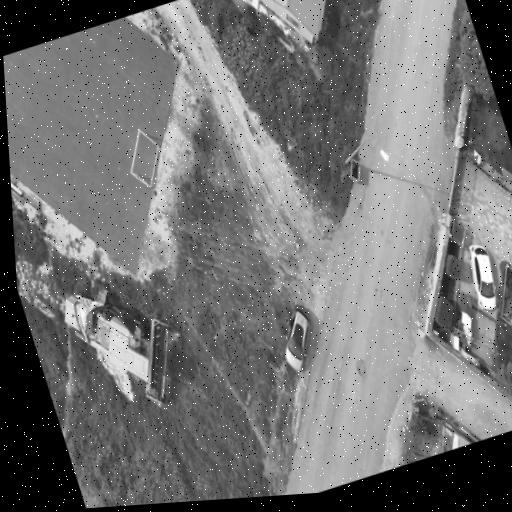car: (468, 245, 496, 311), (285, 305, 309, 372)
harvester: (64, 290, 170, 404)
person: (285, 316, 291, 328)
